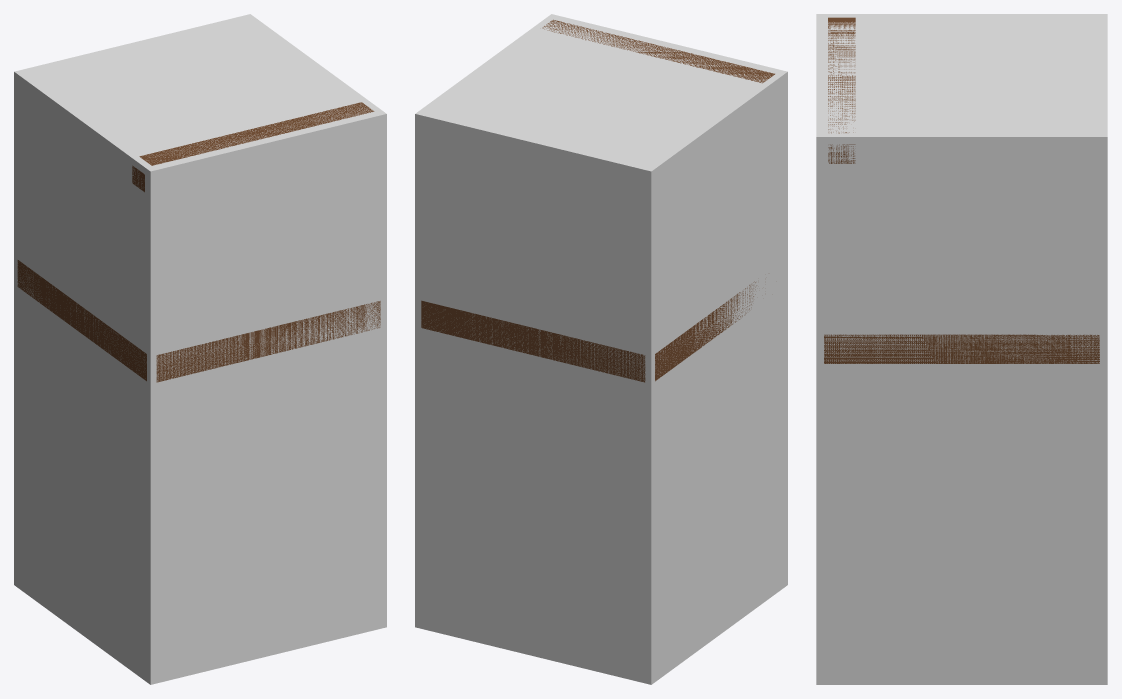
The model's file is counter_stool.glb.
3 views of the same model, side by side, from view 1: azimuth 30°, elevation 25°; view 2: azimuth 150°, elevation 25°; view 3: azimuth 270°, elevation 25° (orthographic). The views are drawn at different scales.
Visible parts, largest first — view 1: kitchen_stool_001_seat_frame_COL, kitchen_stool_001_seat_frame, kitchen_stool_014_back_crest; view 2: kitchen_stool_001_seat_frame_COL, kitchen_stool_001_seat_frame, kitchen_stool_014_back_crest; view 3: kitchen_stool_001_seat_frame_COL, kitchen_stool_001_seat_frame, kitchen_stool_014_back_crest.
Part boxes in pixels (<box>): kitchen_stool_001_seat_frame_COL: <box>14,14,386,684</box>; kitchen_stool_001_seat_frame: <box>17,260,380,382</box>; kitchen_stool_014_back_crest: <box>132,102,374,192</box>; kitchen_stool_001_seat_frame_COL: <box>415,14,787,684</box>; kitchen_stool_001_seat_frame: <box>421,281,756,382</box>; kitchen_stool_014_back_crest: <box>542,19,774,83</box>; kitchen_stool_001_seat_frame_COL: <box>816,14,1107,684</box>; kitchen_stool_001_seat_frame: <box>824,334,1099,363</box>; kitchen_stool_014_back_crest: <box>828,17,855,163</box>.
Bounding box in the file's own units: 0.46 × 0.955 × 0.46.
